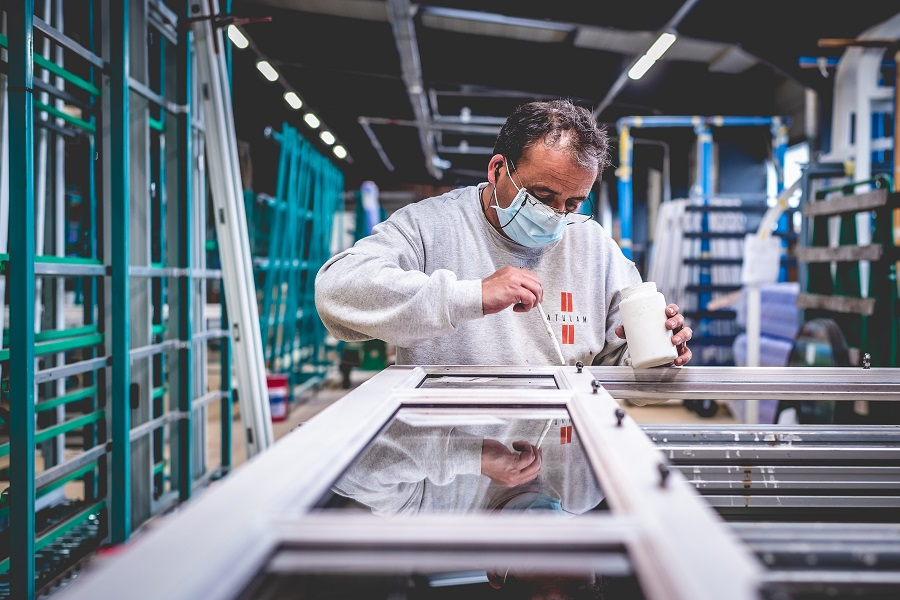with_mask: (495, 154, 582, 255)
